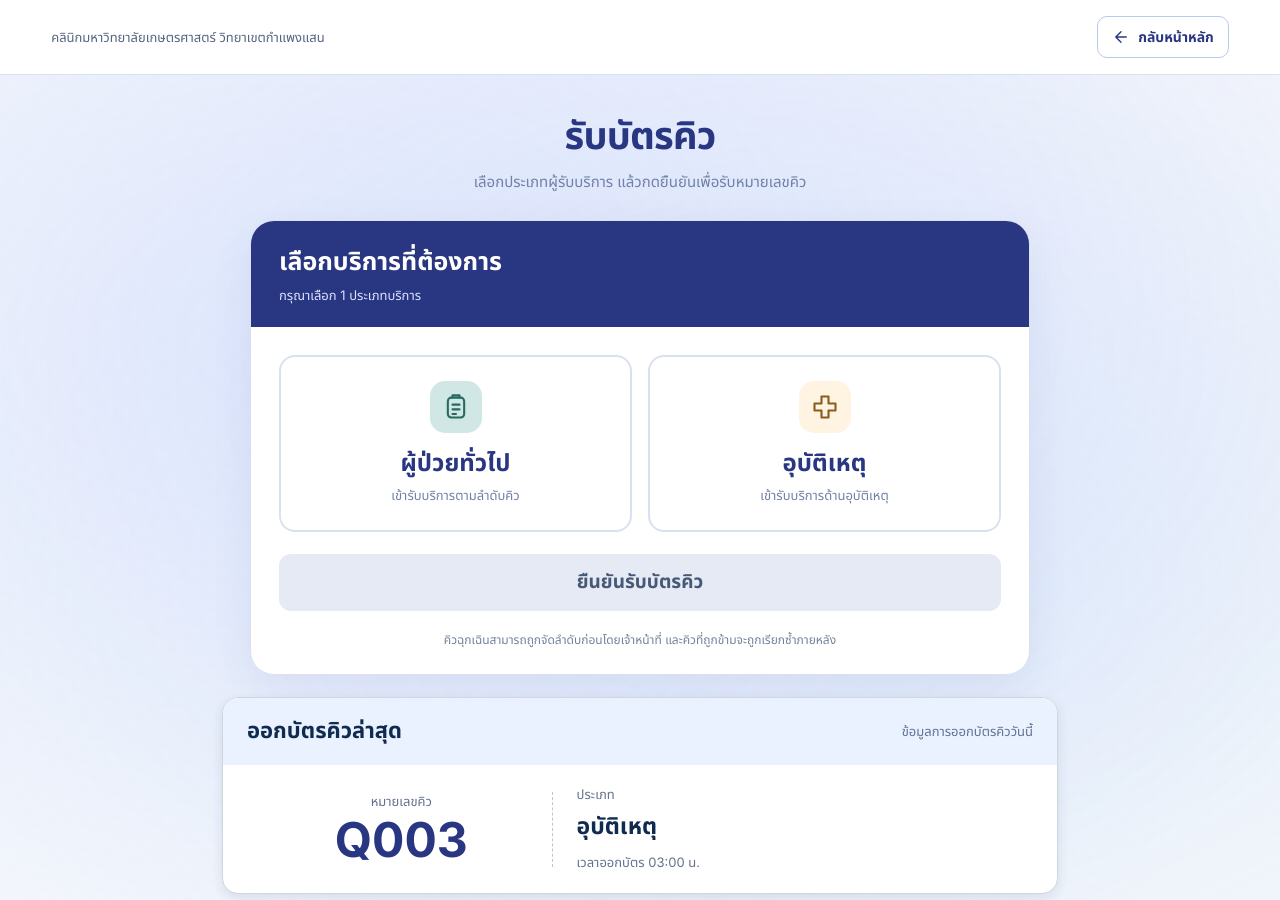
Test: application routes › issues a general queue ticket from the kiosk
Click the text "ผู้ป่วยทั่วไป": {"x": 456, "y": 463} [400, 445, 511, 481]
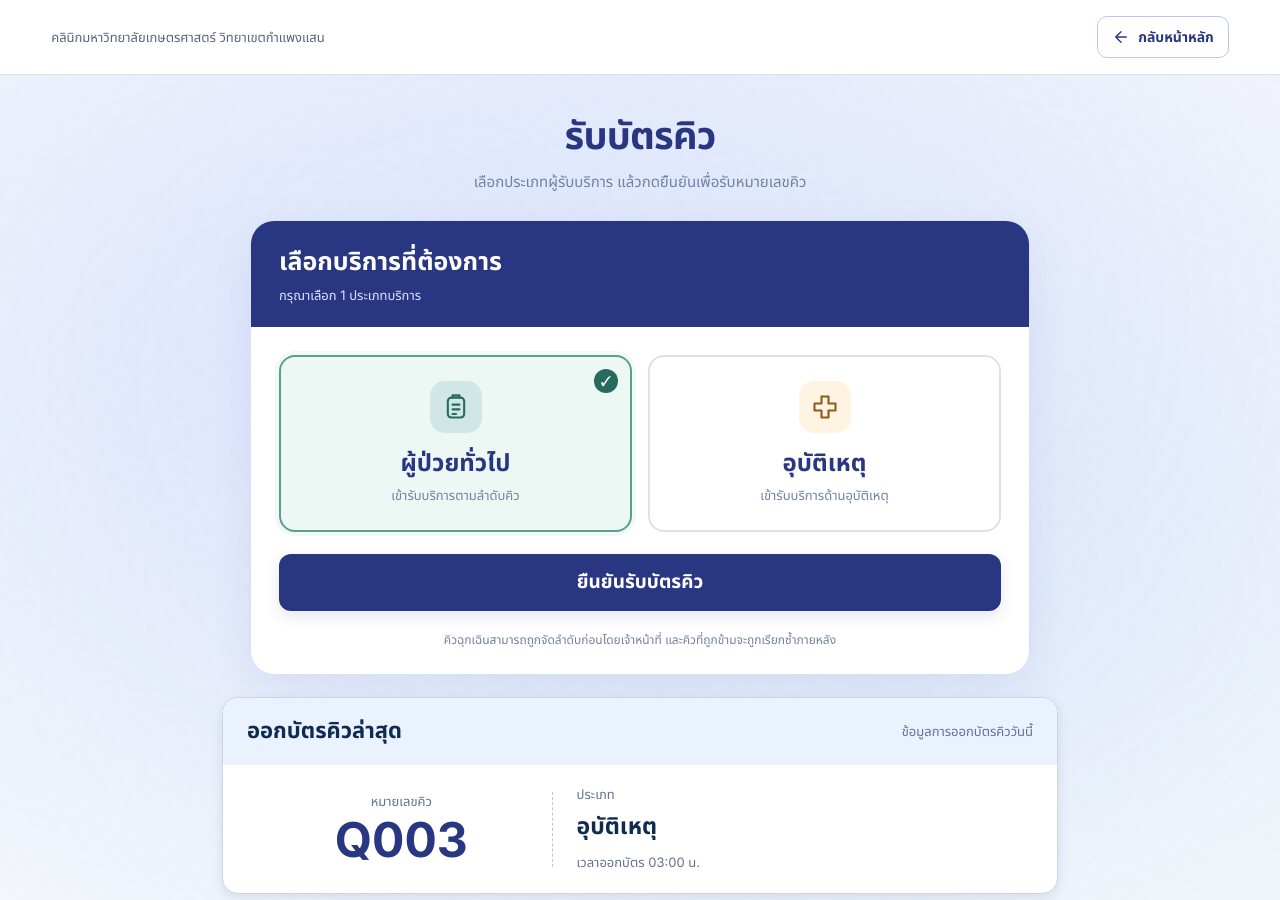
Click the button "ยืนยันรับบัตรคิว": {"x": 640, "y": 582} [279, 554, 1001, 611]
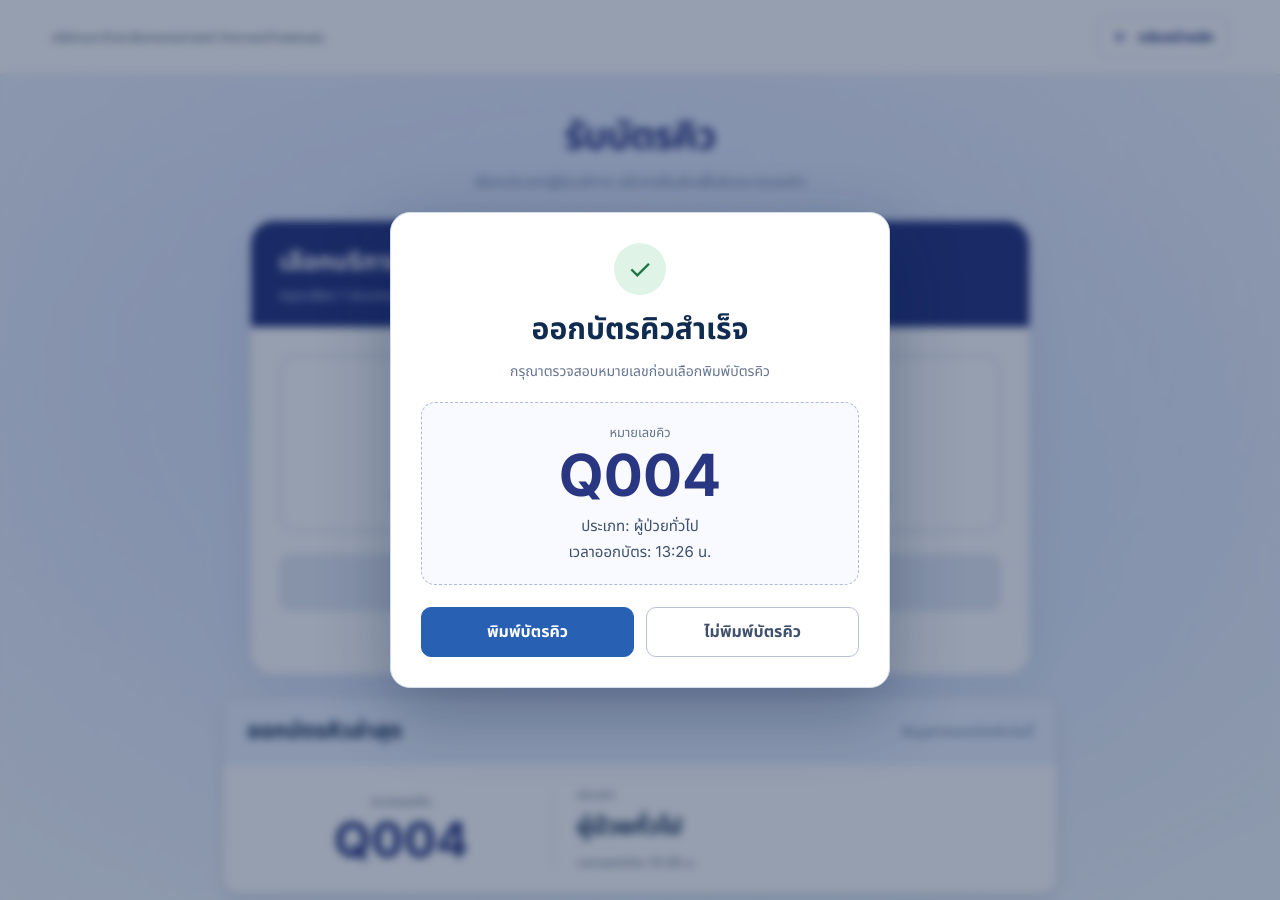
Now the text "ออกบัตรคิวสำเร็จ" is shown, box [532, 310, 748, 346]
Now the dialog shows "Q004", box [559, 440, 721, 510]
Now the button "พิมพ์บัตรคิว" is shown, box [421, 607, 634, 657]
